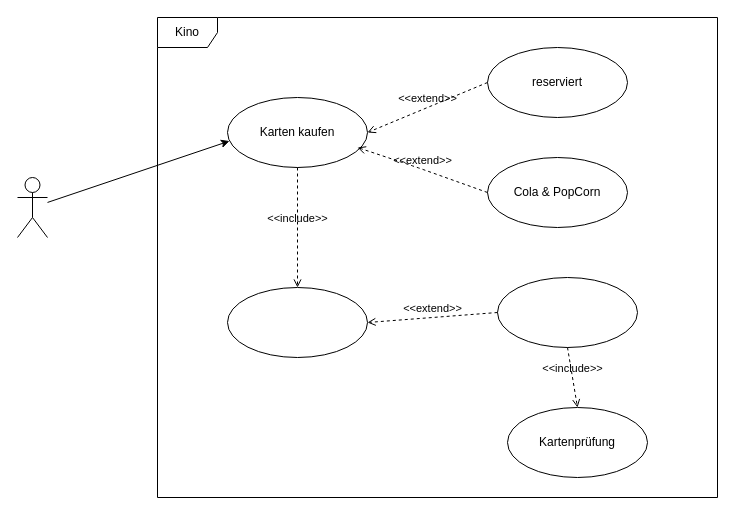
The diagram is 735 pixels wide and 515 high, and some of its shapes have lost their labels. Here are the shapes that lost their labels. From the top down, the centre of each, then its label:
pixel 32 207: Actor
pixel 297 322: bezahlen
pixel 567 312: Zahlung mit Karte
